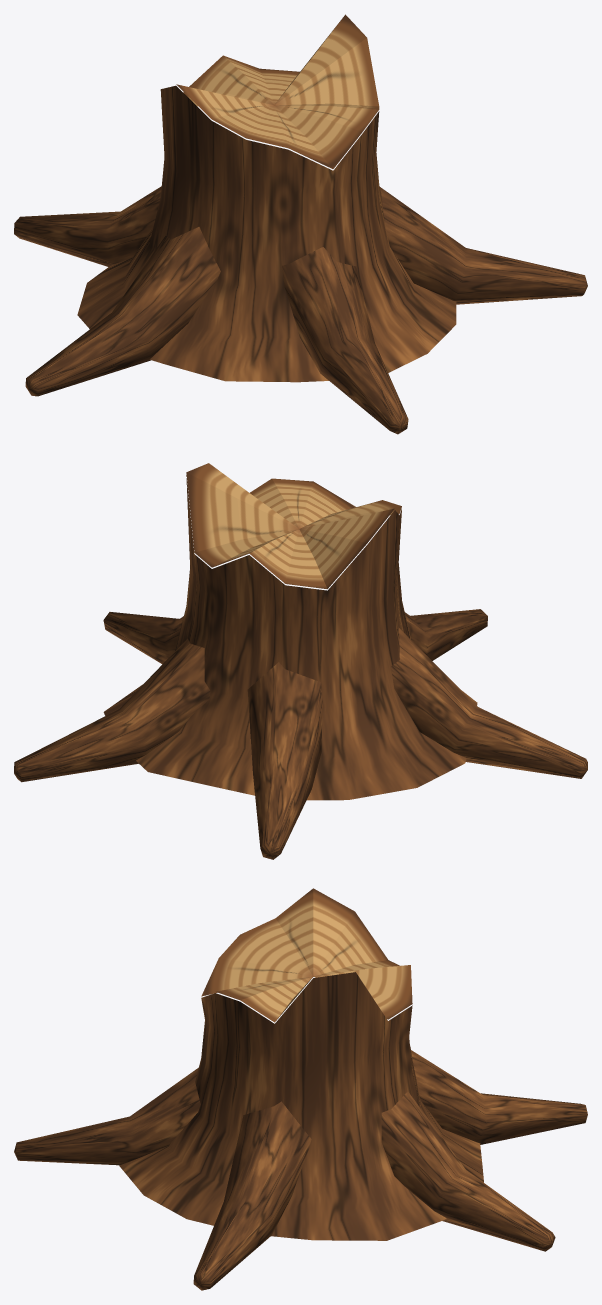
File: souche_2.glb
3 views of the same model, one above another, from view 1: azimuth 30°, elevation 25°; view 2: azimuth 150°, elevation 25°; view 3: azimuth 270°, elevation 25° (orthographic). The views are drawn at different scales.
Visible parts, largest first — view 1: souche_2; view 2: souche_2; view 3: souche_2.
Boxes of the visible parts, box(x1,y1,x2,y2) form: souche_2: box(14, 14, 587, 434); souche_2: box(14, 463, 587, 859); souche_2: box(14, 888, 587, 1290).
Bounding box in the file's own units: 1.65 × 0.7823 × 1.64.
2 materials, 2 textured.
